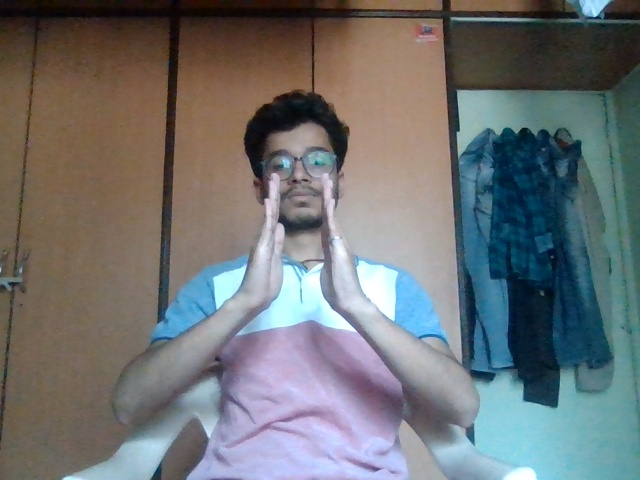morning: (244, 171, 386, 351)
